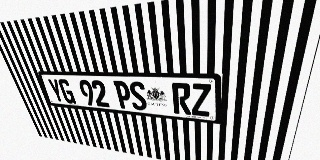2: (90, 80, 110, 107)
9: (78, 80, 97, 106)
G: (57, 79, 76, 104)
P: (113, 81, 133, 109)
R: (172, 83, 191, 115)
S: (128, 81, 148, 111)
Y: (47, 78, 65, 103)
Z: (191, 83, 211, 117)
